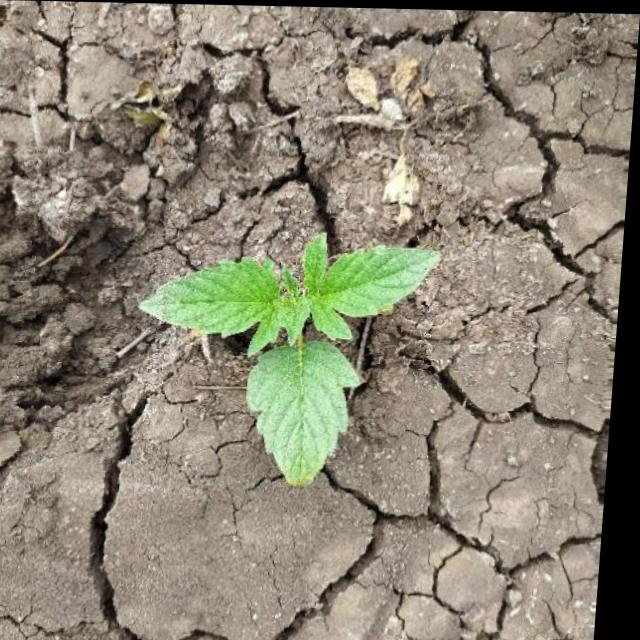crop: (138, 224, 466, 501)
